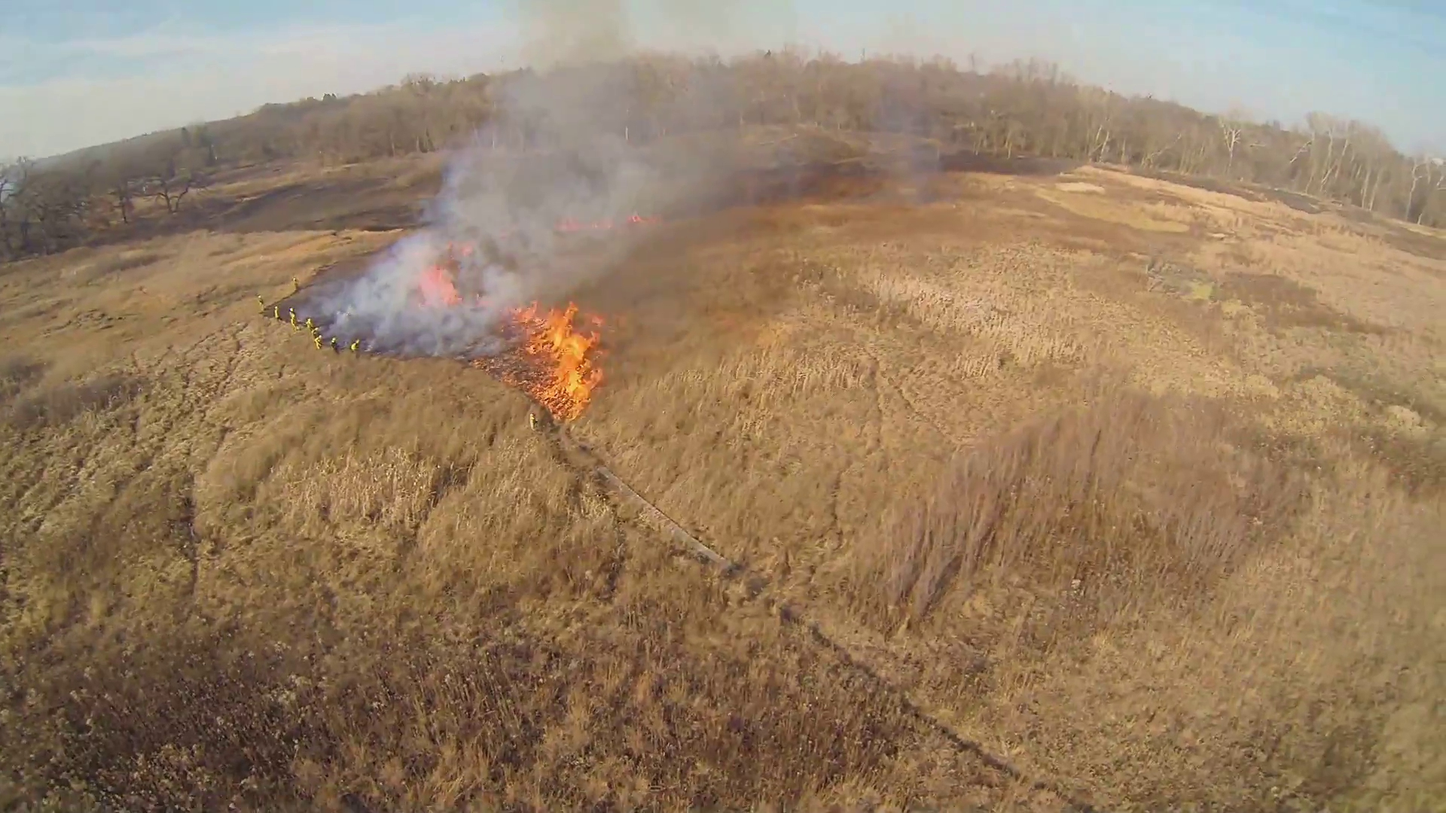forest_fire: (474, 302, 602, 421), (419, 263, 489, 308)
